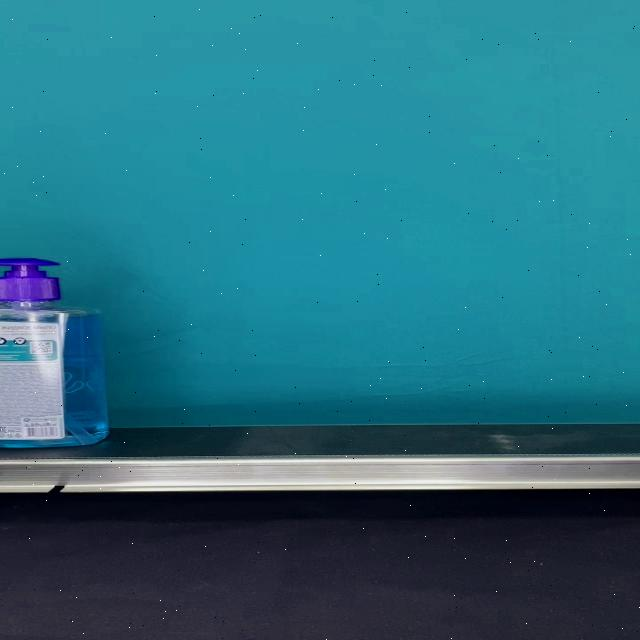Bottle: (0, 258, 109, 449)
Cap: (0, 258, 60, 301)
